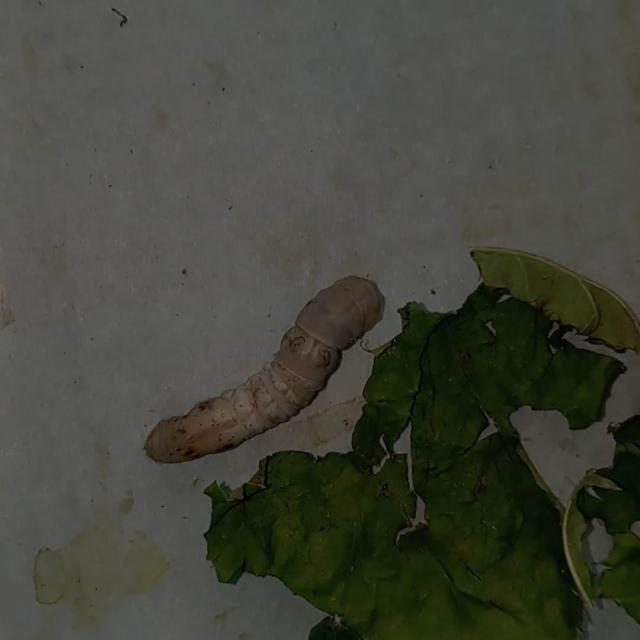Grasserie: (127, 266, 398, 470)
